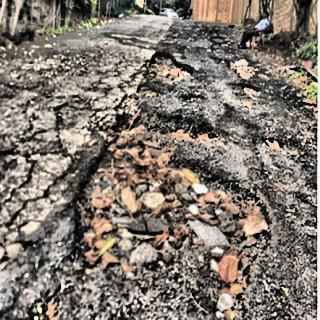pothole: (66, 86, 277, 310), (146, 45, 198, 82), (226, 55, 264, 82)
